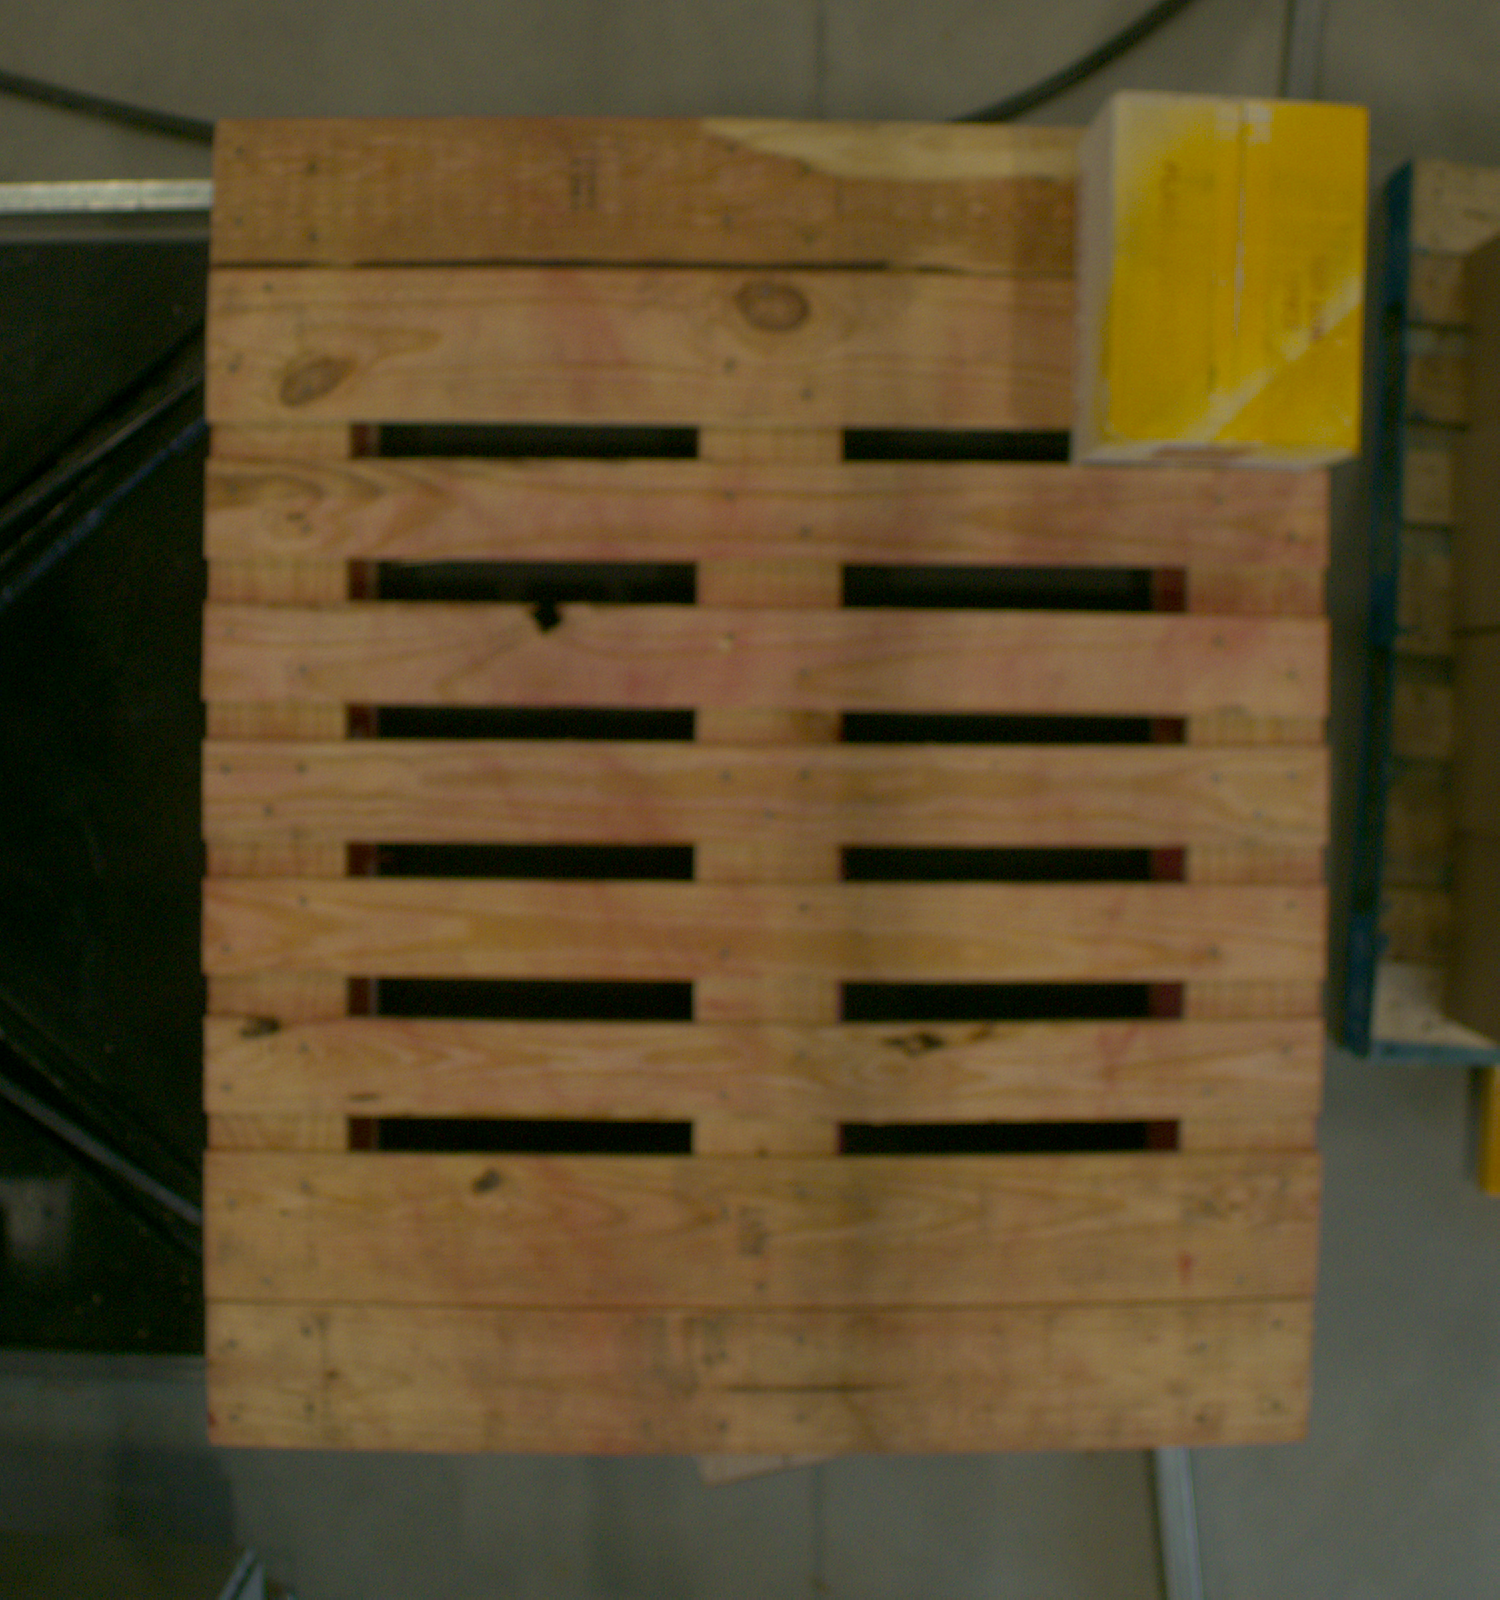box top: (1112, 99, 1365, 445)
